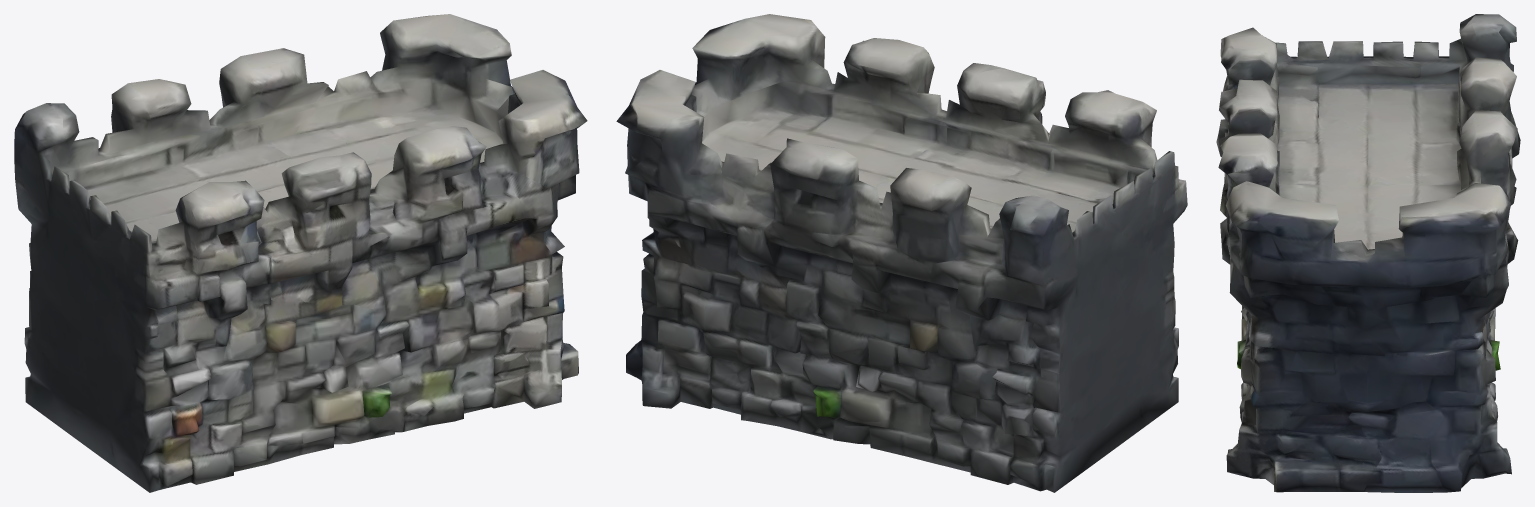
File: castle_wall.glb
3 views of the same model, side by side, from view 1: azimuth 30°, elevation 25°; view 2: azimuth 150°, elevation 25°; view 3: azimuth 270°, elevation 25° (orthographic). The views are drawn at different scales.
Visible parts, largest first — view 1: tripo_node_bfc91459-ec08-4fa6-86b2-a98e60ac9fdc; view 2: tripo_node_bfc91459-ec08-4fa6-86b2-a98e60ac9fdc; view 3: tripo_node_bfc91459-ec08-4fa6-86b2-a98e60ac9fdc.
Part boxes in pixels (x1,y1,x2,y2): tripo_node_bfc91459-ec08-4fa6-86b2-a98e60ac9fdc: [14, 14, 587, 492]; tripo_node_bfc91459-ec08-4fa6-86b2-a98e60ac9fdc: [616, 14, 1187, 492]; tripo_node_bfc91459-ec08-4fa6-86b2-a98e60ac9fdc: [1216, 14, 1520, 492].
Bounding box in the file's own units: 1 × 0.6161 × 0.6124.
Materials: 1 (1 with a texture image).
